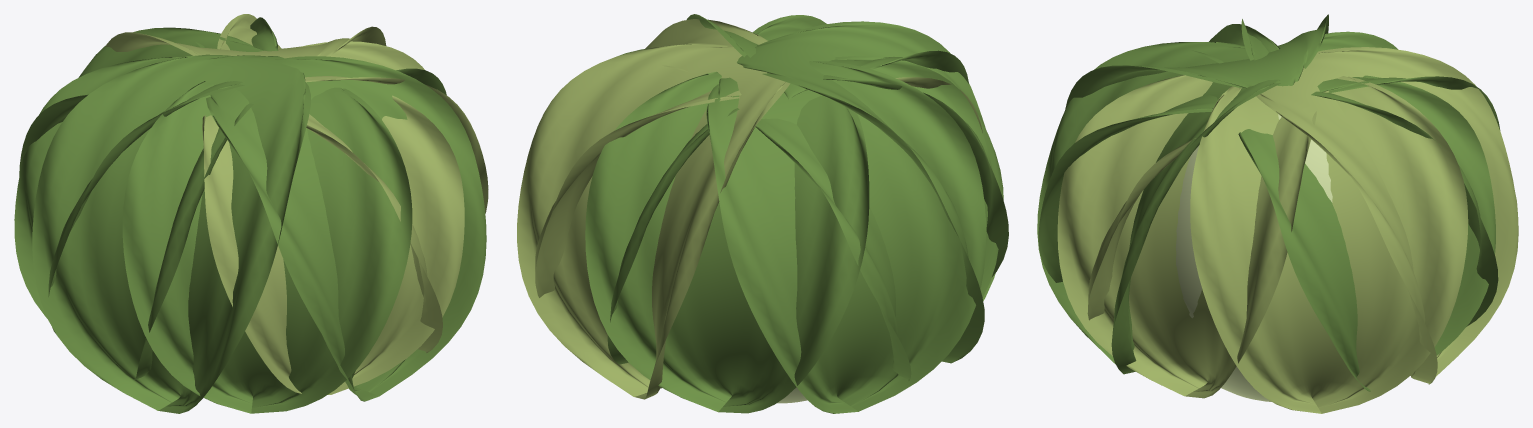
File: cabbage.glb
The picture shows the model from 3 angles, left to right: view 1: azimuth 30°, elevation 25°; view 2: azimuth 150°, elevation 25°; view 3: azimuth 270°, elevation 25°; orthographic projection. The views are drawn at different scales.
Visible parts, largest first — view 1: leaf (×11); view 2: leaf (×10); view 3: leaf (×10), cabbage-core.
Part boxes in pixels (<box>): leaf (×11): <box>14,14,488,413</box>; leaf (×10): <box>517,14,1008,413</box>; leaf (×10): <box>1037,14,1518,413</box>; cabbage-core: <box>1175,114,1332,401</box>.
Size of the model in its own units: 1.83 by 1.37 by 1.85.
